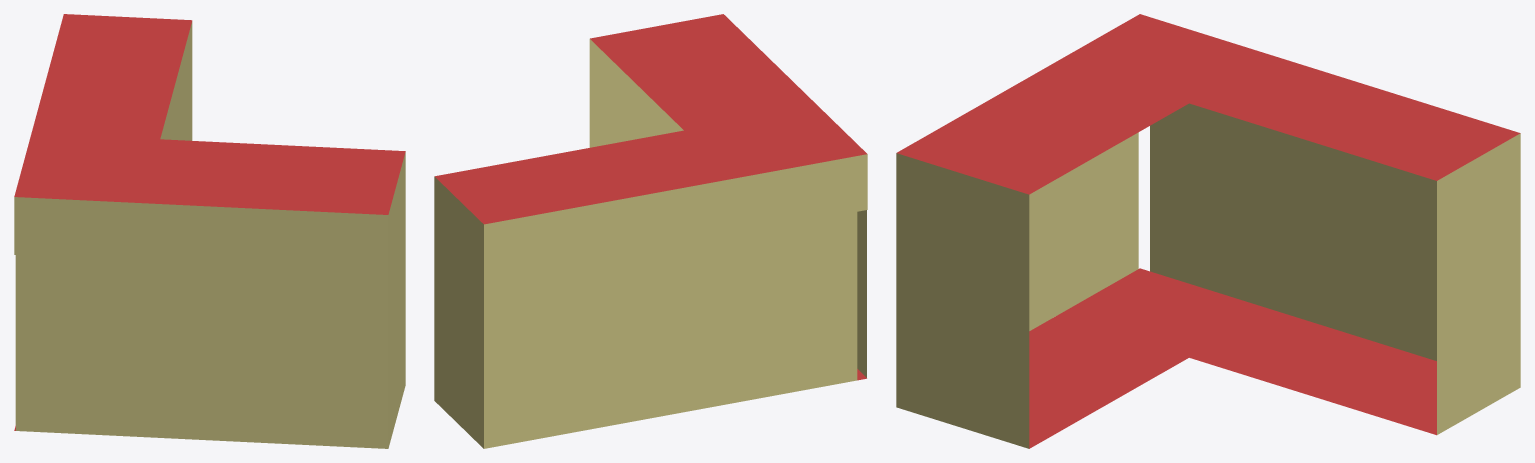
3 renders of one model, left to right at view 1: azimuth 30°, elevation 25°; view 2: azimuth 150°, elevation 25°; view 3: azimuth 270°, elevation 25°, orthographic. The views are drawn at different scales.
Parts seen in each view (by area): view 1: group_4, group_3; view 2: group_4, group_3; view 3: group_4, group_3, group_5.
Part boxes in pixels (x1,y1,x2,y2): group_4: (14,21,405,448); group_3: (14,14,405,214); group_4: (434,39,867,448); group_3: (435,14,866,224); group_4: (896,103,1520,448); group_3: (897,14,1520,194); group_5: (1029,268,1436,448).
Bounding box in the file's own units: 11.05 × 16.14 × 7.25.
